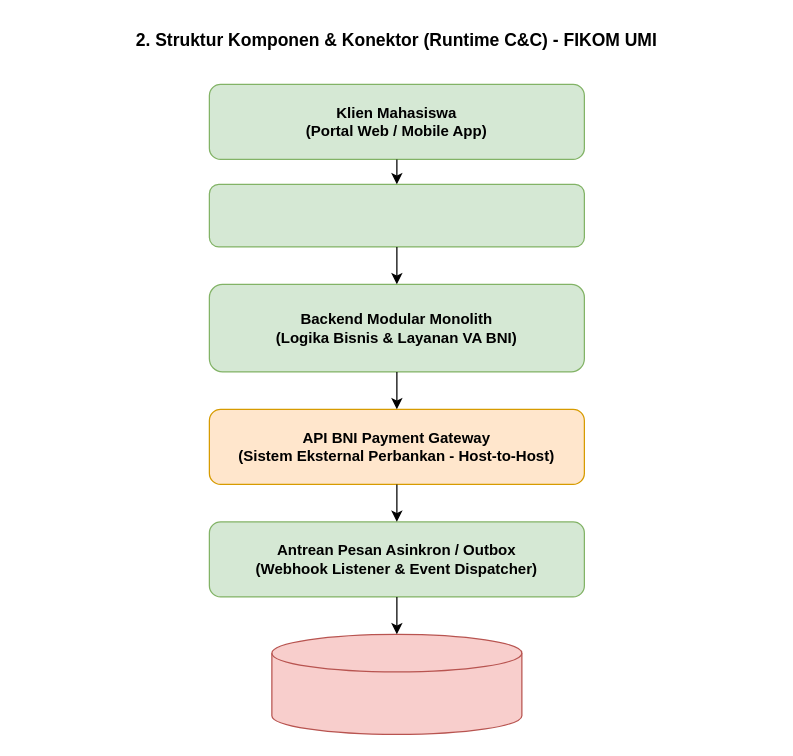
Some shapes in this 793 by 756 pixel diagram are drawn without their labels. The centre of each missing label's shape, as x and y in pixels:
API Gateway / Router: [396,215]
Database SIAKAD & Keuangan (PostgreSQL Terpusat): [396,683]
